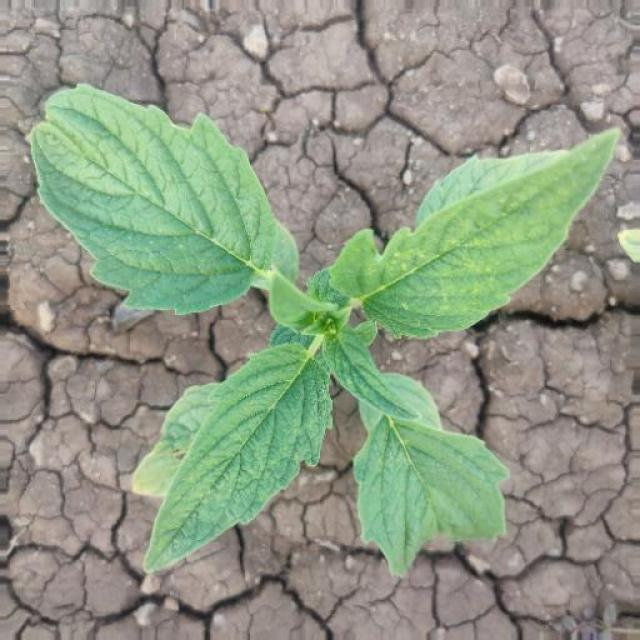crop: (22, 54, 624, 578)
